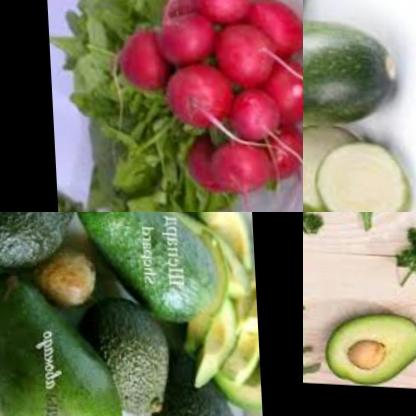avocado: (0, 267, 129, 416), (67, 212, 239, 319), (189, 212, 259, 411), (90, 294, 172, 416), (317, 300, 416, 386), (159, 320, 246, 416), (0, 212, 83, 265)
rediska: (160, 64, 229, 132), (205, 133, 267, 200), (149, 5, 212, 67), (210, 22, 268, 89), (113, 25, 170, 93), (257, 49, 303, 125), (244, 0, 303, 56), (224, 84, 279, 144), (257, 123, 303, 177), (178, 134, 217, 188), (188, 0, 249, 26)
vegetable marrow: (303, 24, 413, 130), (303, 138, 409, 212), (303, 0, 333, 212), (303, 121, 364, 212)
